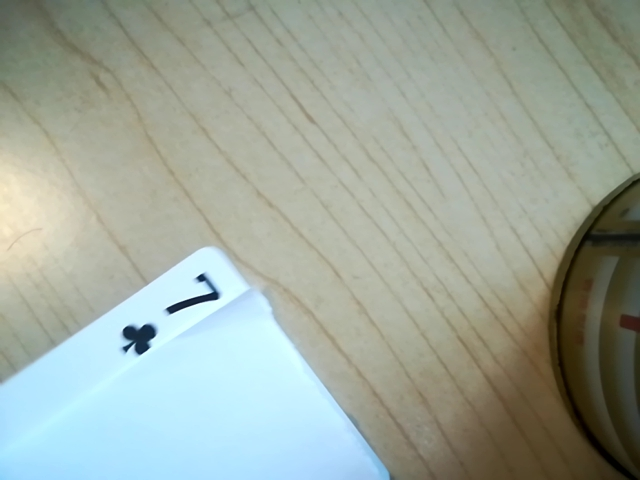mh 7: (101, 271, 241, 356)
